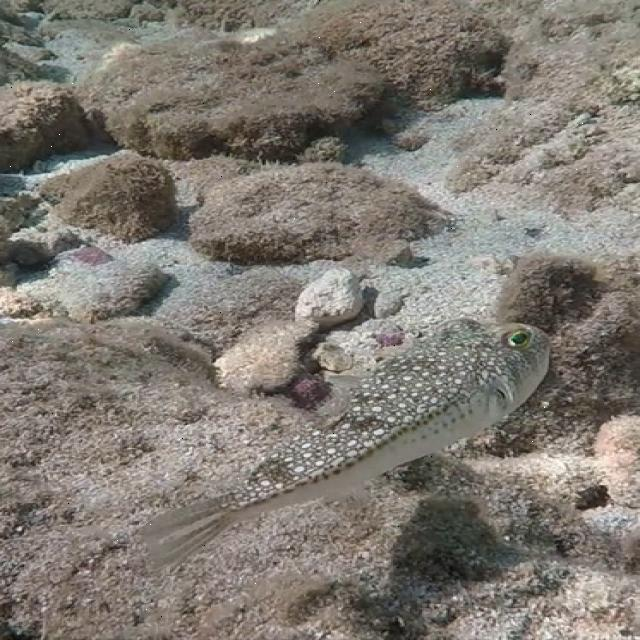Balik: (143, 319, 549, 564)
